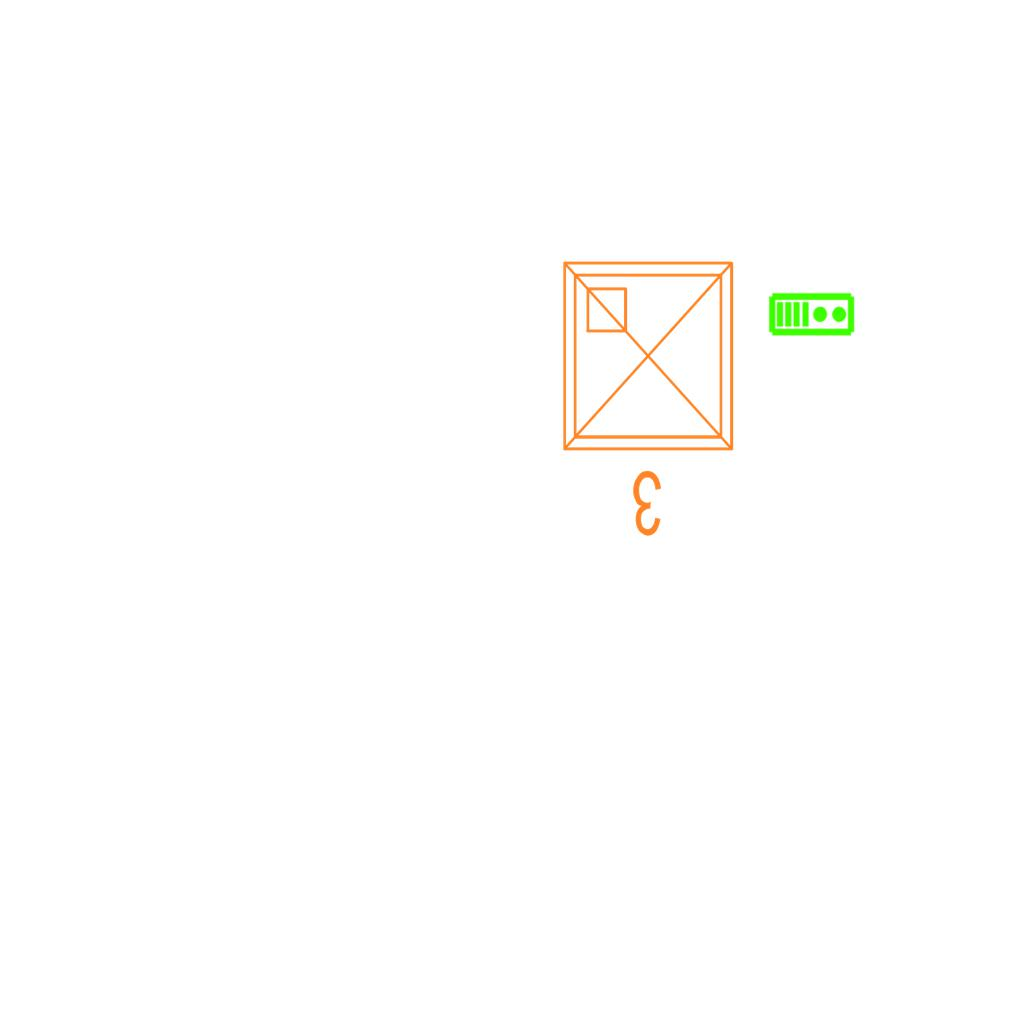Einbaudownlights_LED_Konferenzraeume: (548, 247, 756, 547)
Gegensprechanlage_mit_Video: (768, 290, 856, 337)
